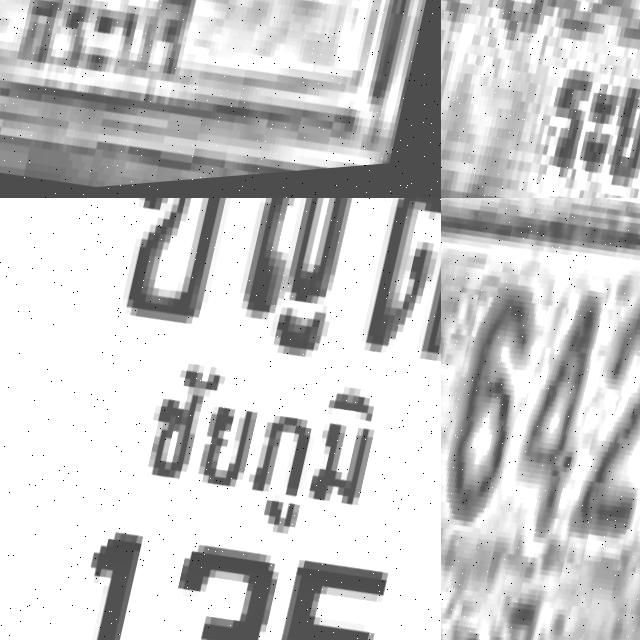license-plate: (0, 198, 441, 640), (441, 198, 640, 640), (0, 0, 441, 198), (441, 0, 640, 198)
